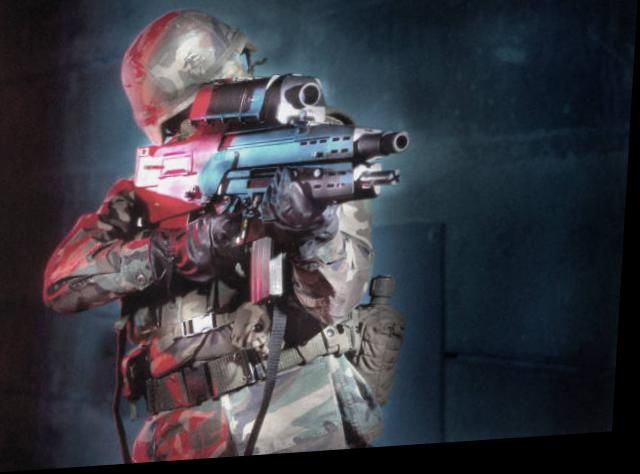other: (37, 6, 415, 469)
